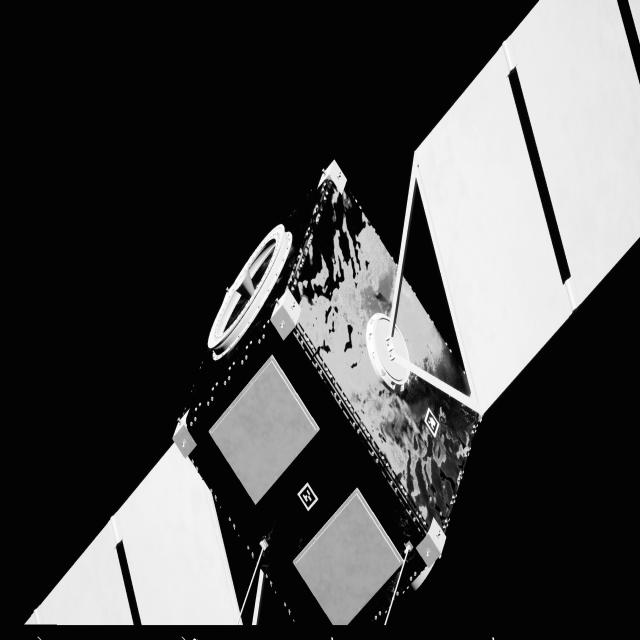medium_debris: (26, 0, 640, 635)
